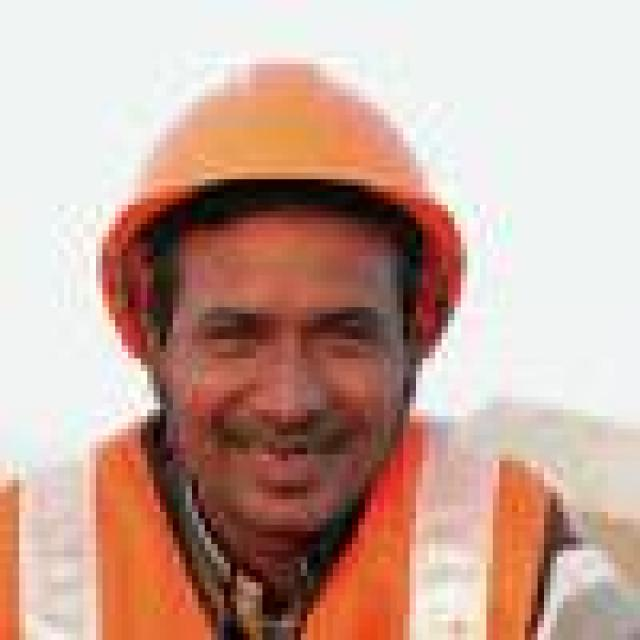Reflective-Jacket: (58, 416, 602, 640)
Safety-Helmet: (90, 45, 512, 262)
